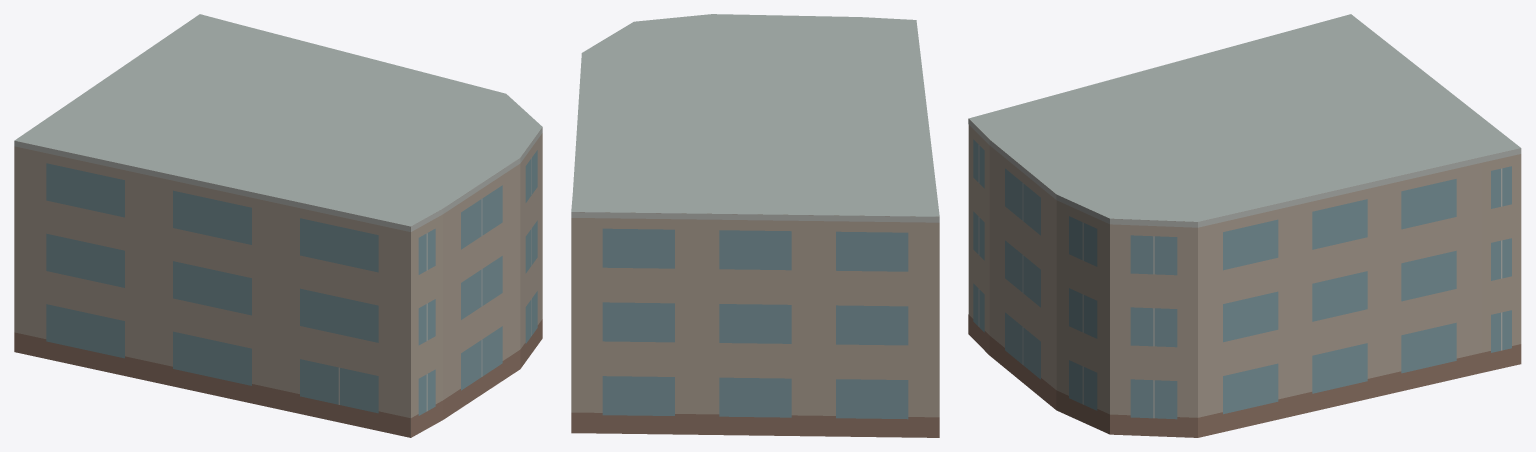
File: survey-upis-32775448.glb
The picture shows the model from 3 angles, left to right: view 1: azimuth 30°, elevation 25°; view 2: azimuth 150°, elevation 25°; view 3: azimuth 270°, elevation 25°; orthographic projection. The views are drawn at different scales.
Visible parts, largest first — view 1: survey-upis-32775448.tmp; view 2: survey-upis-32775448.tmp; view 3: survey-upis-32775448.tmp.
Part boxes in pixels (box(x1,y1,x2,y2)): survey-upis-32775448.tmp: box(14, 14, 542, 437); survey-upis-32775448.tmp: box(571, 14, 939, 437); survey-upis-32775448.tmp: box(968, 14, 1521, 437).
Size of the model in its own units: 18.91 by 9.15 by 21.24.
